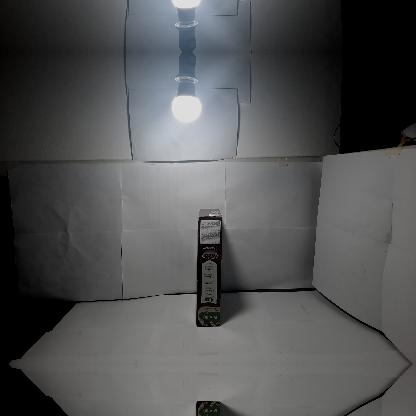Koko-Krunch: (196, 208, 222, 326)
